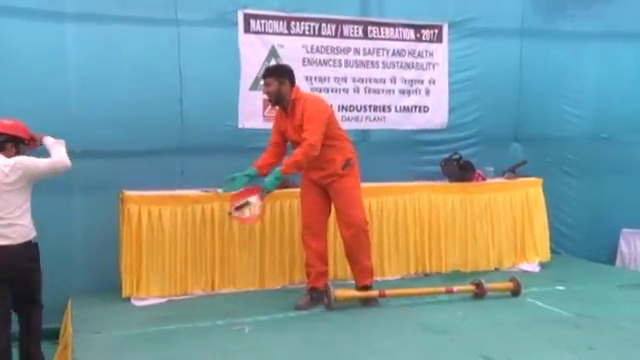helmet: (1, 116, 35, 147)
helmet_off: (261, 65, 296, 107)
helmet_on: (1, 115, 35, 159)
person: (254, 63, 383, 307), (1, 117, 72, 360)
